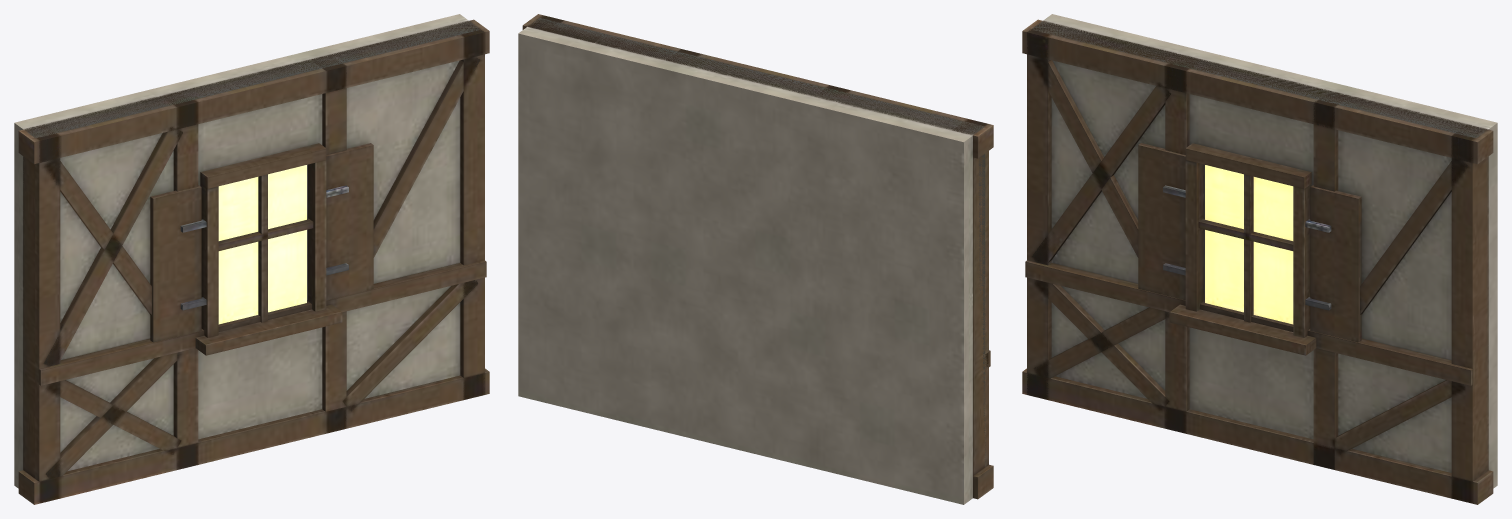
File: parede_enxaimel.glb
3 views of the same model, side by side, from view 1: azimuth 30°, elevation 25°; view 2: azimuth 150°, elevation 25°; view 3: azimuth 330°, elevation 25° (orthographic).
Parts seen in each view (by area): view 1: parede_enxaimel; view 2: parede_enxaimel; view 3: parede_enxaimel.
Part boxes in pixels (bbox=[...]): parede_enxaimel: bbox=[14, 14, 489, 504]; parede_enxaimel: bbox=[518, 14, 993, 504]; parede_enxaimel: bbox=[1022, 14, 1497, 504].
Size of the model in its own units: 3.68 by 2.8 by 0.52.
1 material, 1 textured.
